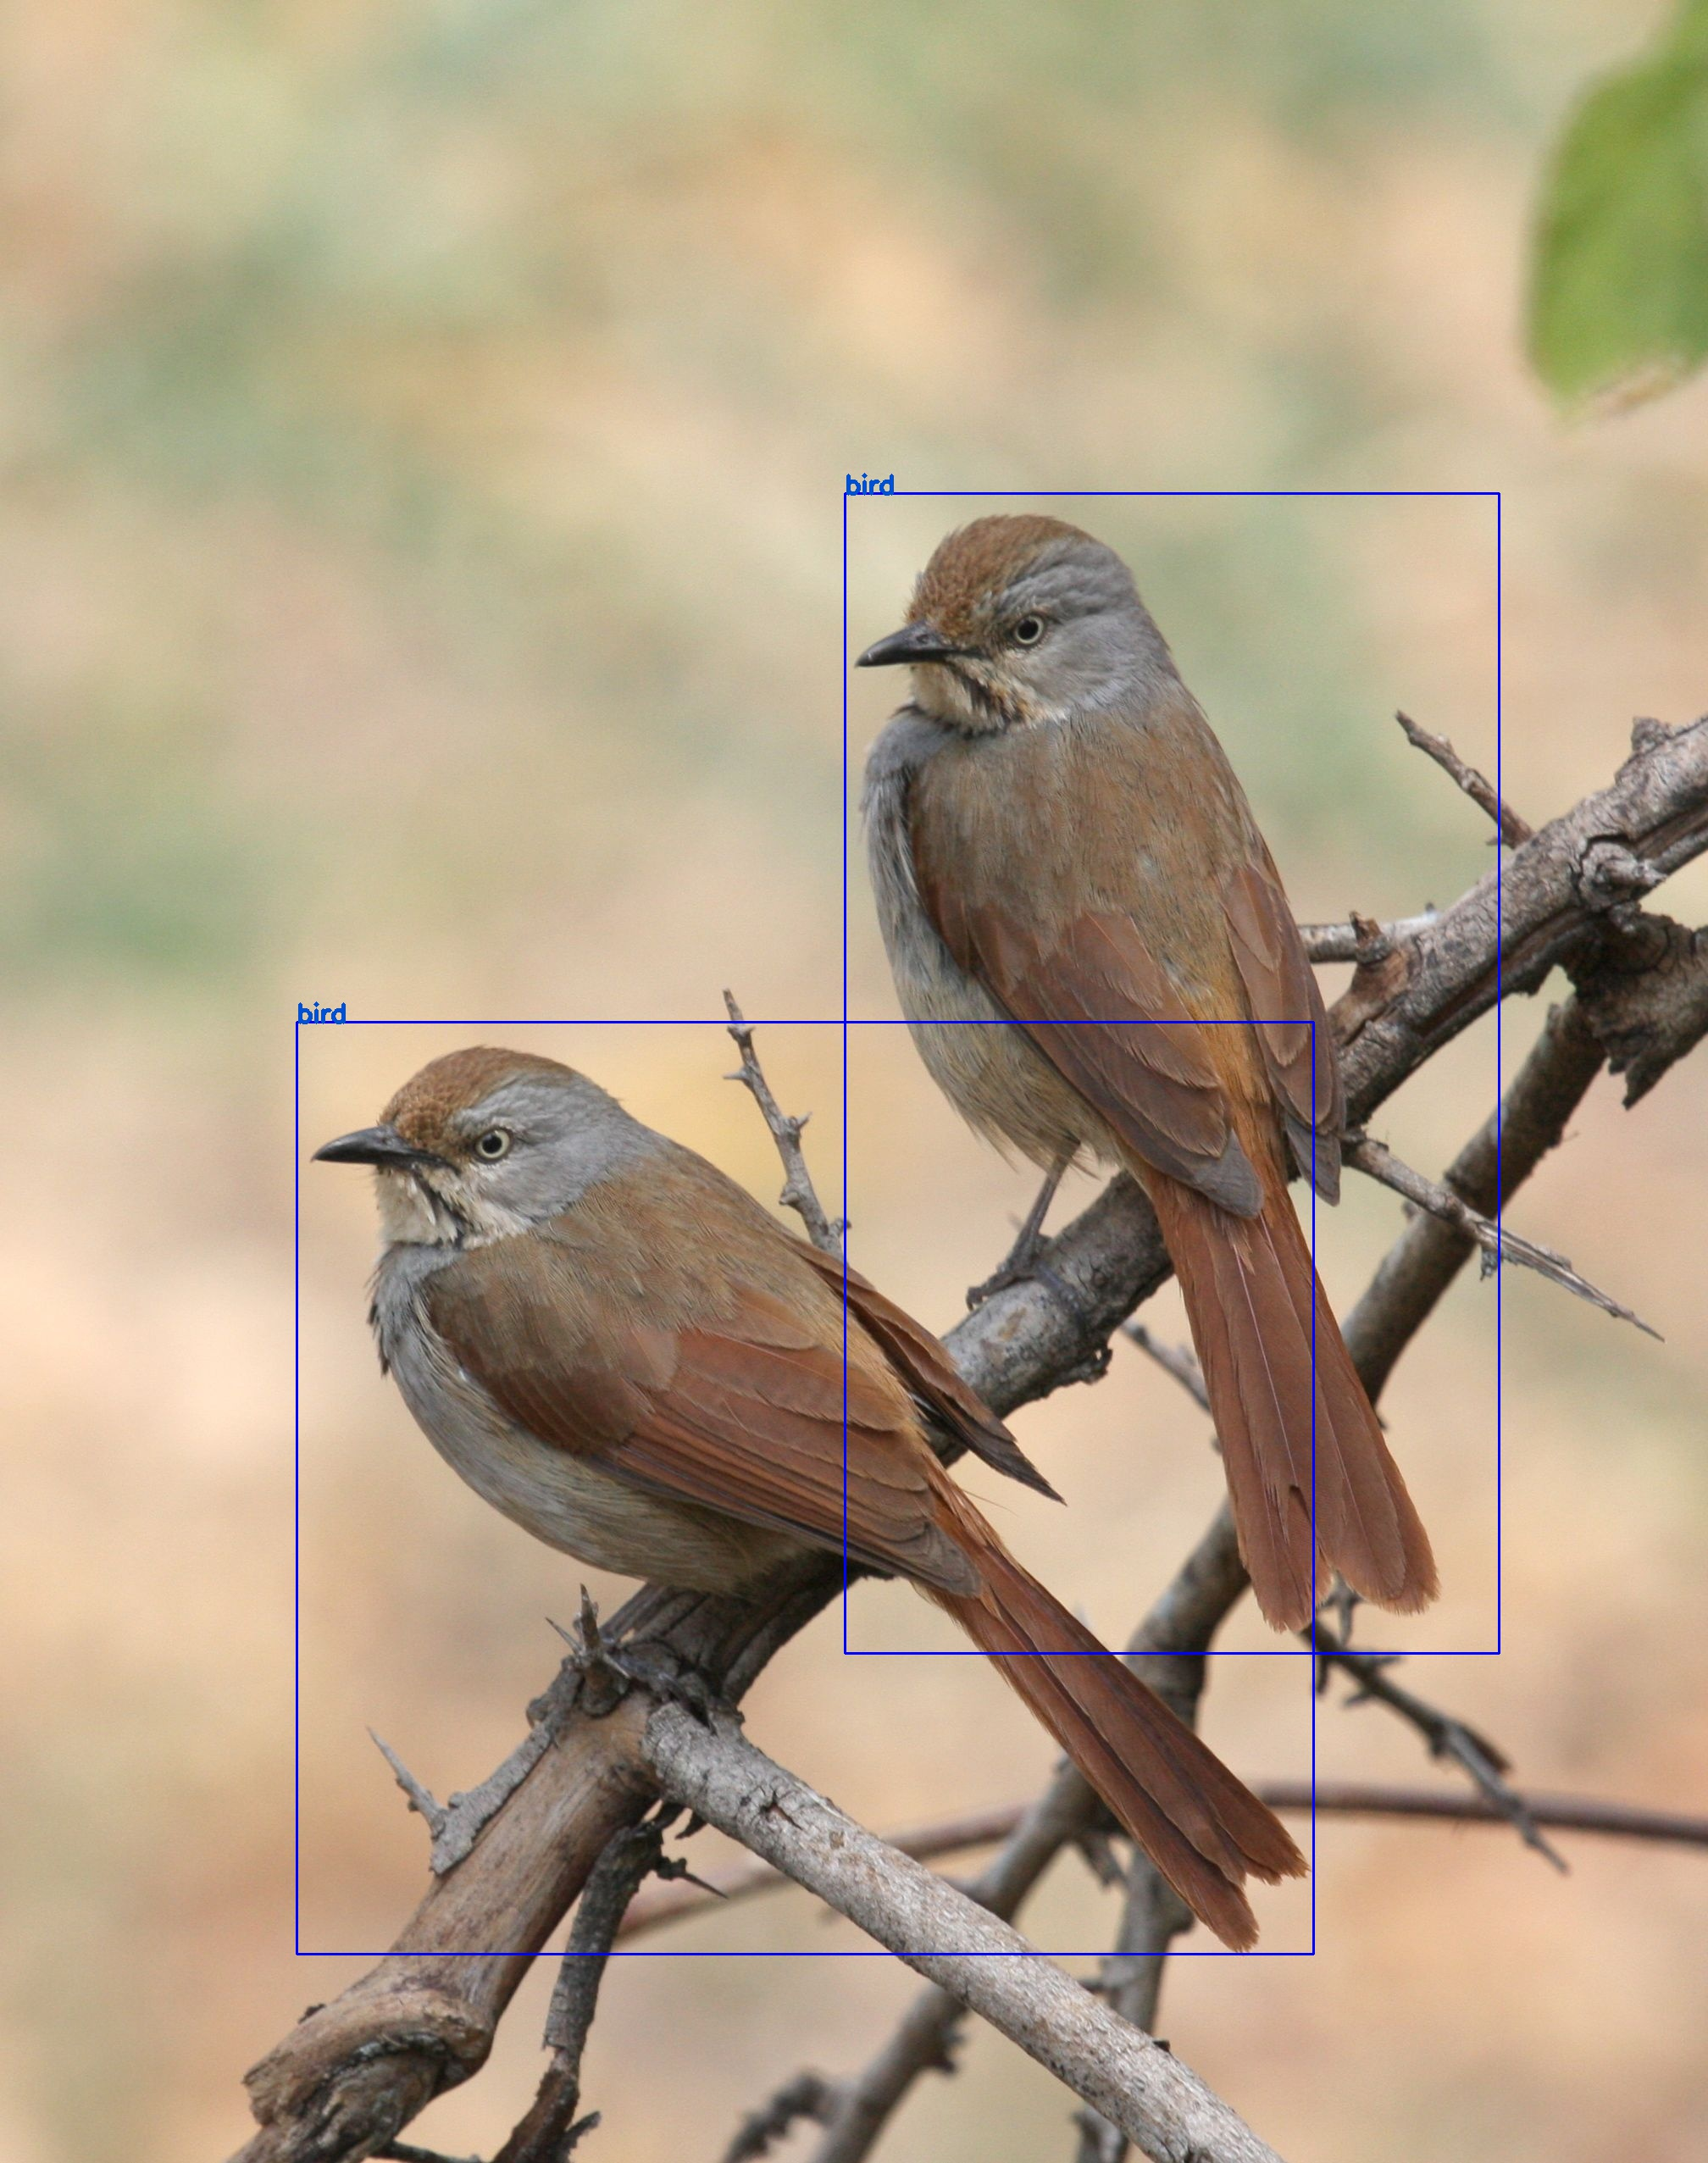bird: (295, 1020, 1313, 1952), (844, 492, 1499, 1652)
